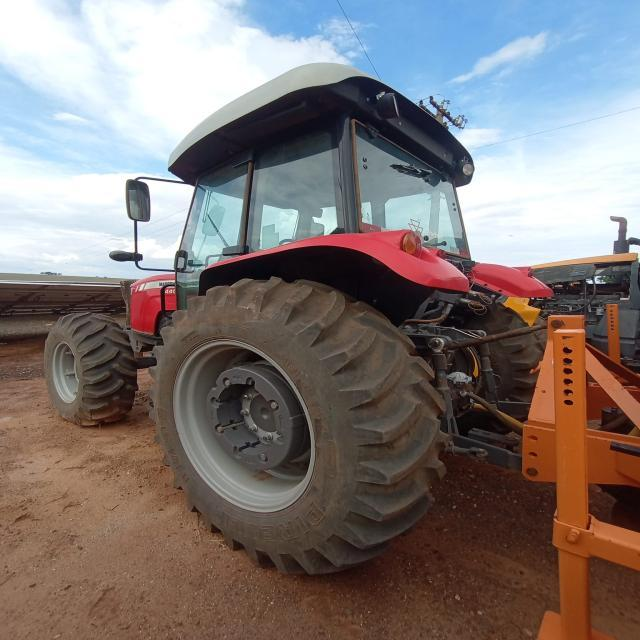Tratores - v5 YOLO V8L 2024-11-13: (51, 61, 550, 580)
